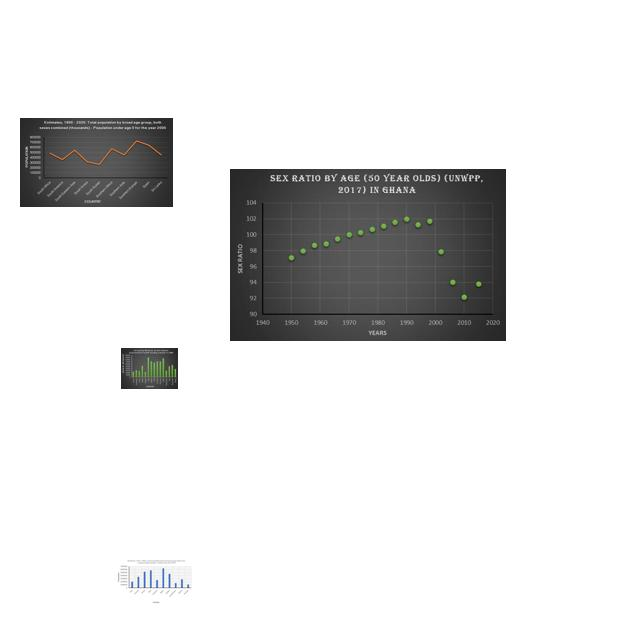Graph: (230, 169, 506, 341), (20, 118, 173, 207), (116, 559, 193, 604), (121, 348, 178, 389)
